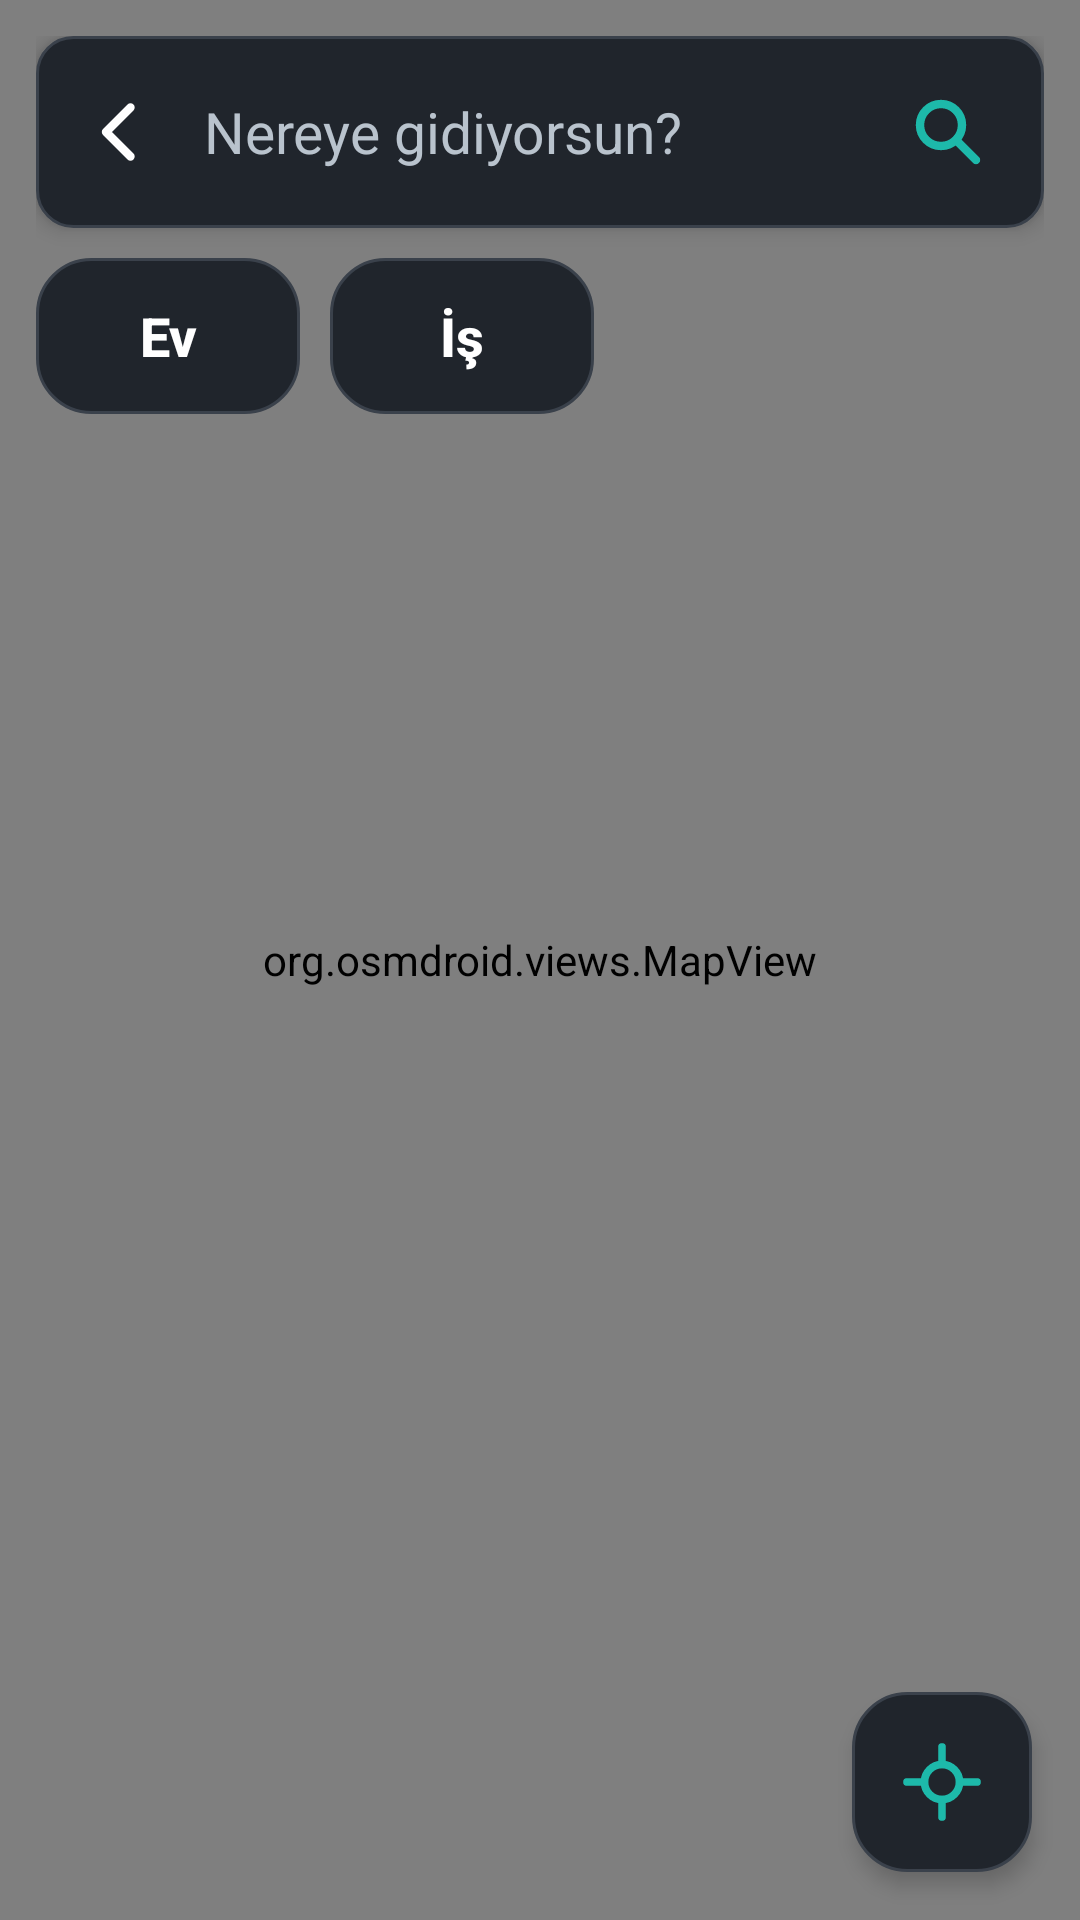

Locate icon controls on the screen. Image size 1080 × 1920, boxes as (x1, y1, x2, y2).
Ara: (852, 36, 1044, 228)
Geri: (36, 36, 204, 228)
Konumuma dön: (852, 1692, 1032, 1872)
